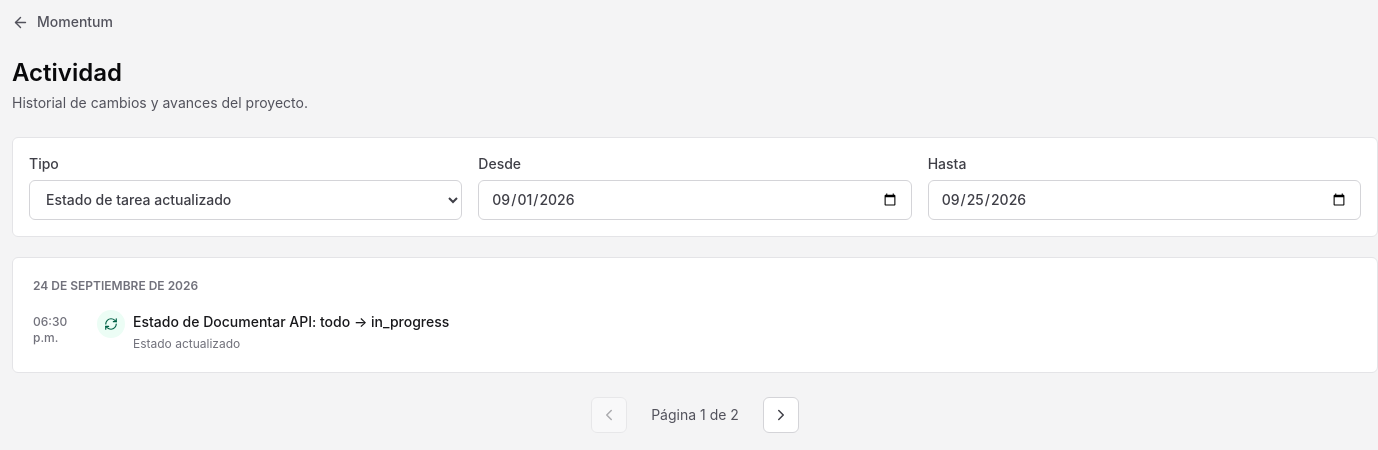
Test case: Activity page › persists filters, renders resource links and paginates
Expected: the text "Estado de Documentar API: todo -> in_progress" is shown, [133,312,449,330]
Expected: the dropdown labelled "Tipo" shows "Estado de tarea actualizado", [29,180,462,220]
Click the button named "Página siguiente".
click(781, 414)  # box [763,396,799,432]
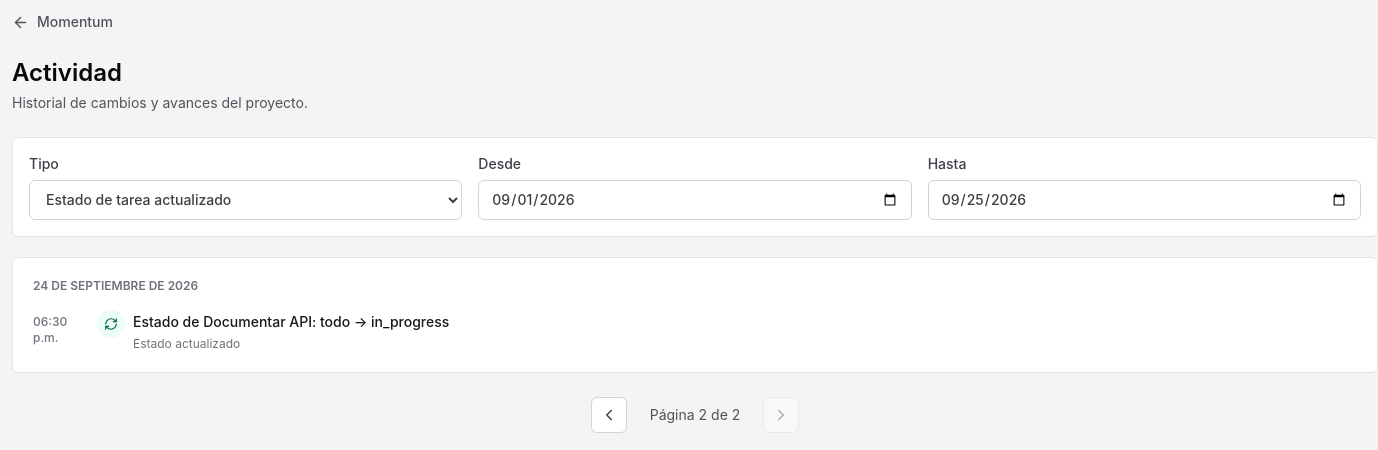
Now the text "Página 2 de 2" is shown, box [650,406,740,422]
